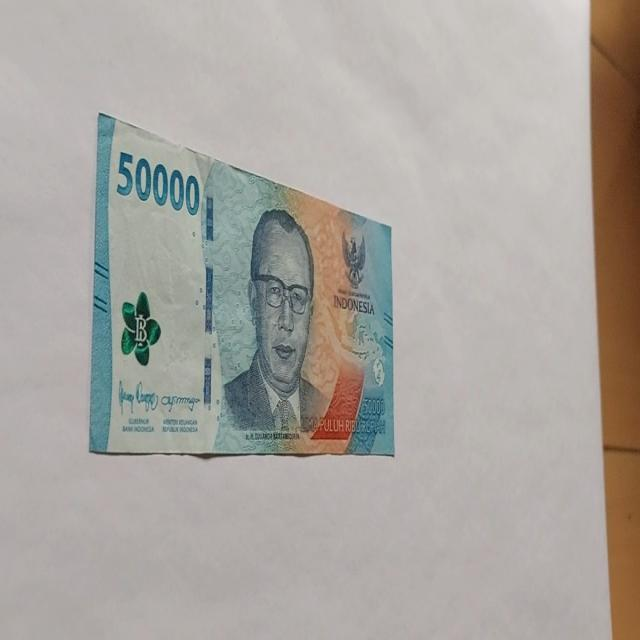lima puluh ribu rupiah: (88, 111, 396, 460), (216, 206, 332, 448), (114, 148, 200, 217)
